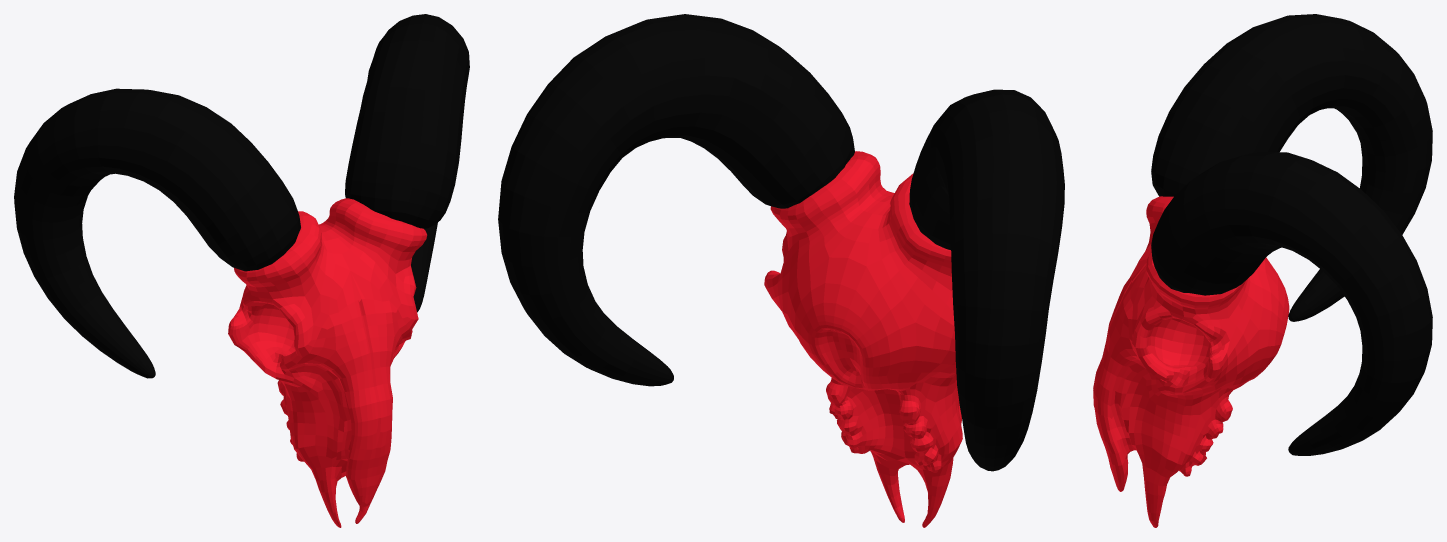
Rendered from GoatSkull.glb.
3 views of the same model, side by side, from view 1: azimuth 30°, elevation 25°; view 2: azimuth 150°, elevation 25°; view 3: azimuth 270°, elevation 25° (orthographic). The views are drawn at different scales.
Visible parts, largest first — view 1: full; view 2: full; view 3: full.
Boxes of the visible parts, x1=… form: full: x1=14, y1=14, x2=469, y2=527; full: x1=498, y1=14, x2=1064, y2=527; full: x1=1093, y1=14, x2=1432, y2=527.
Bounding box in the file's own units: 6.04 × 5.61 × 3.98.
